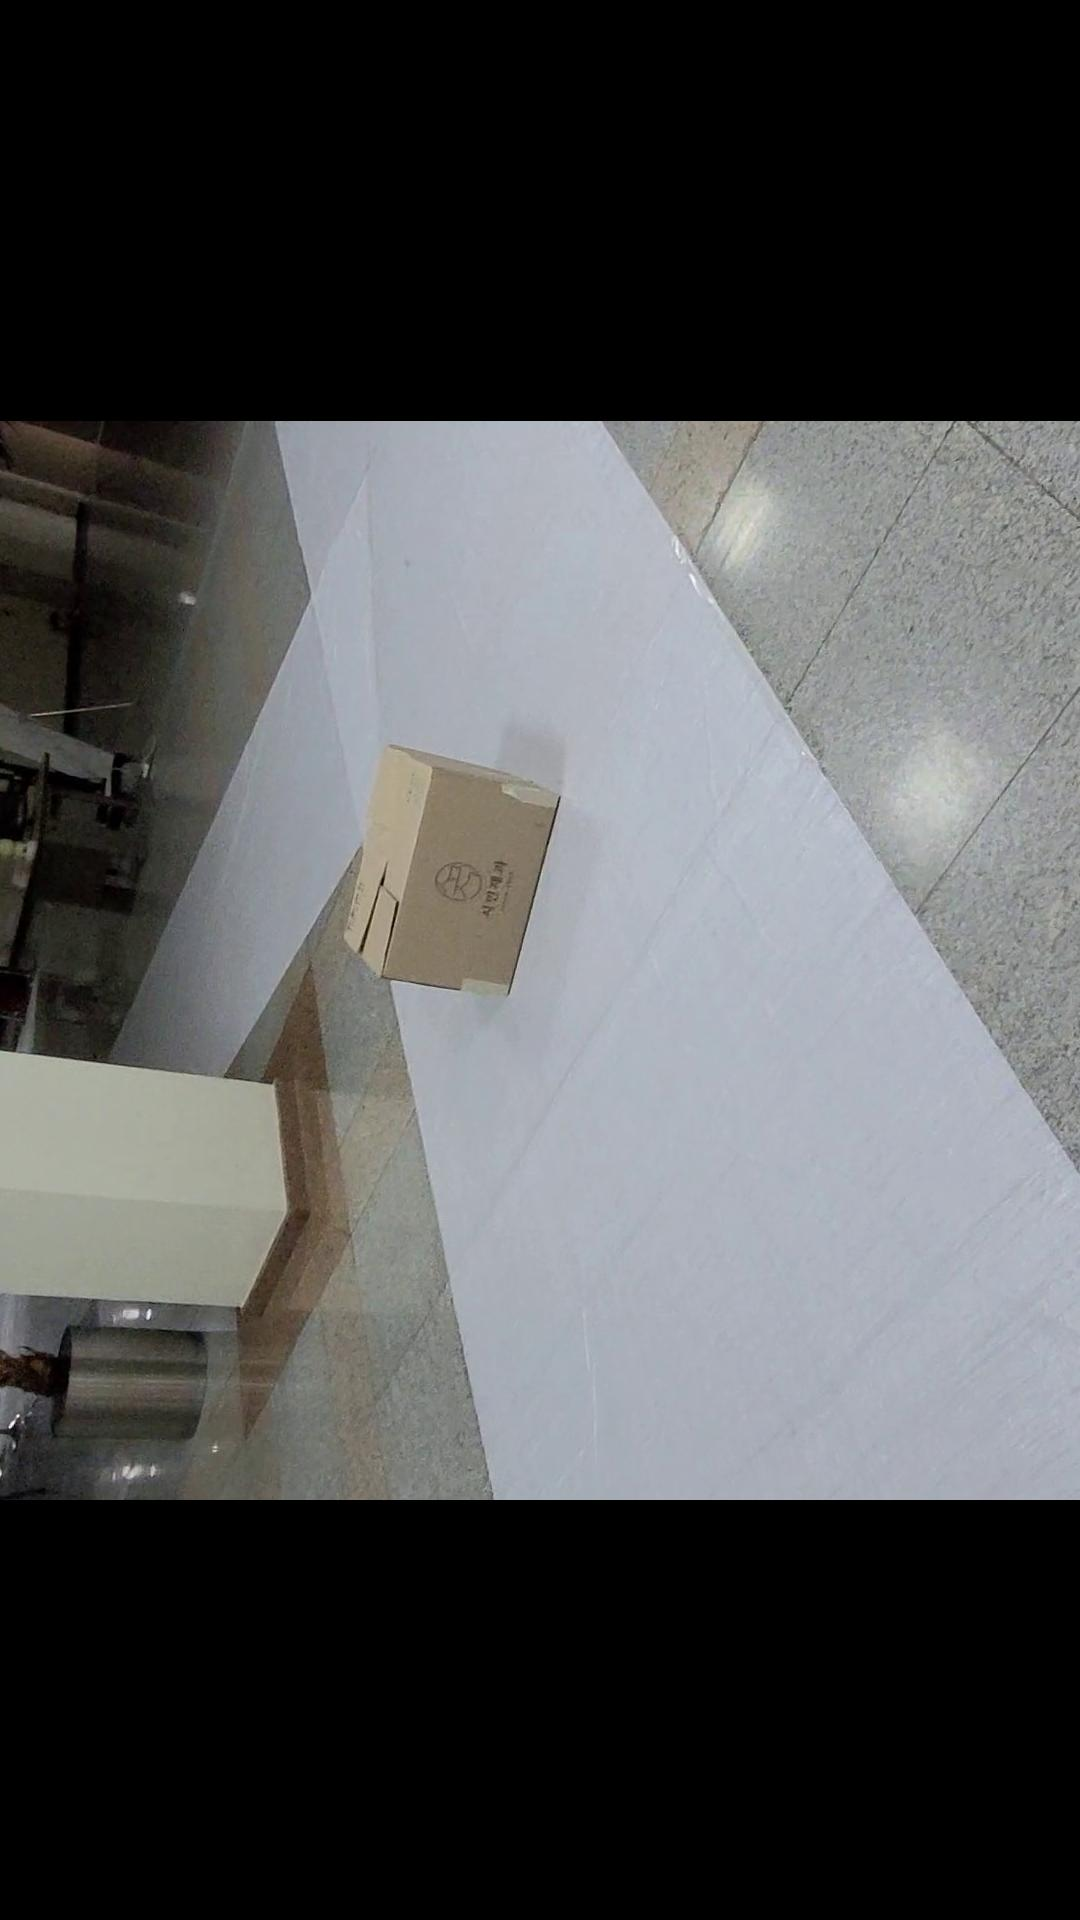Box: (330, 715, 587, 994)
